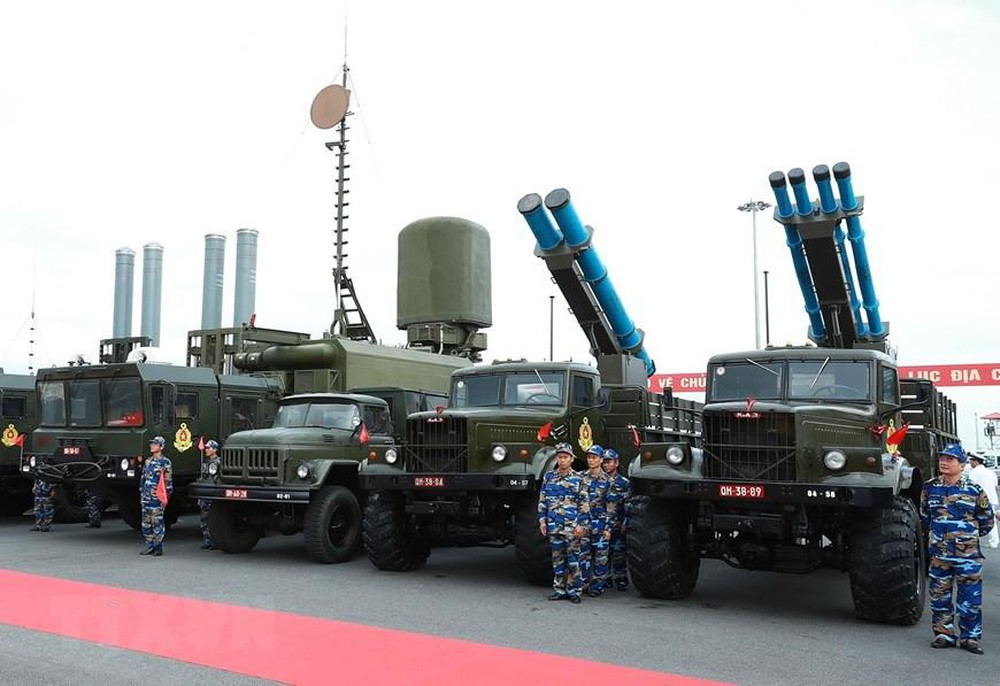plate: (719, 482, 767, 499), (411, 472, 446, 489), (57, 442, 82, 458), (222, 489, 250, 502)
